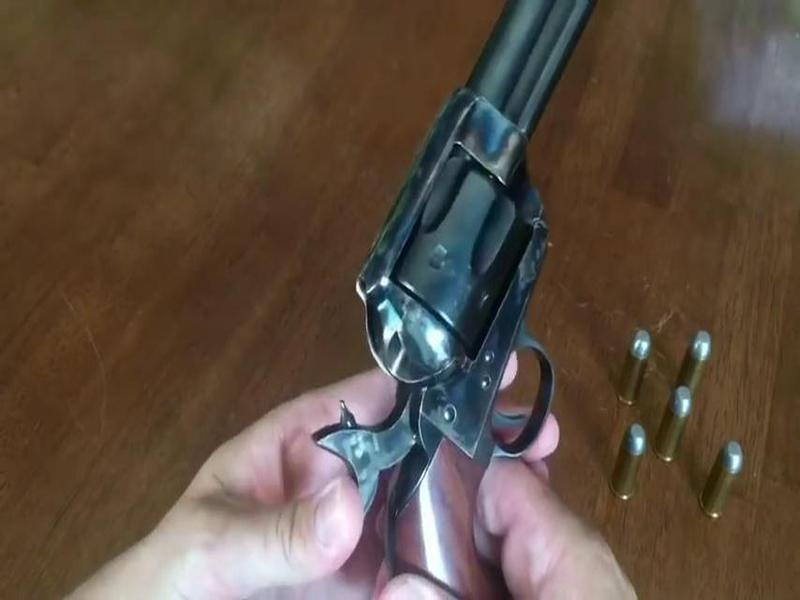Revolver: (365, 9, 574, 567)
